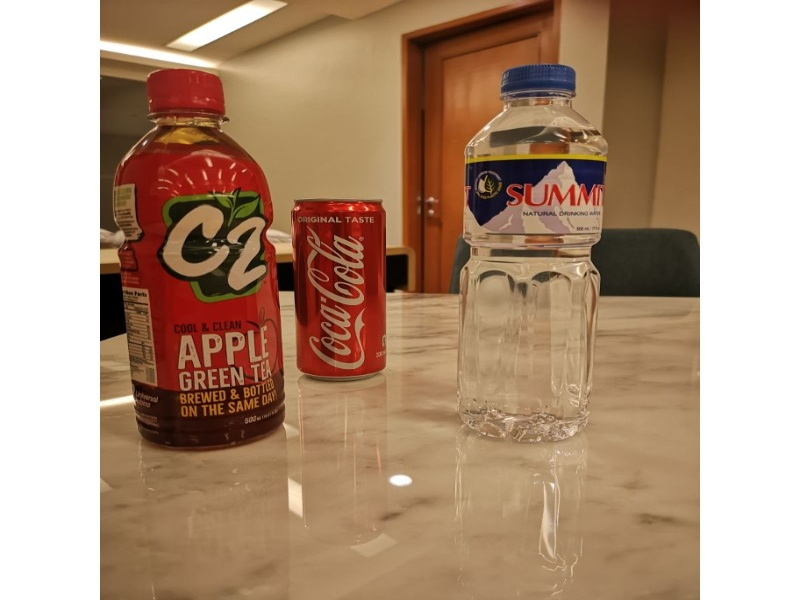PET #1: (114, 64, 289, 455), (446, 62, 613, 446)
